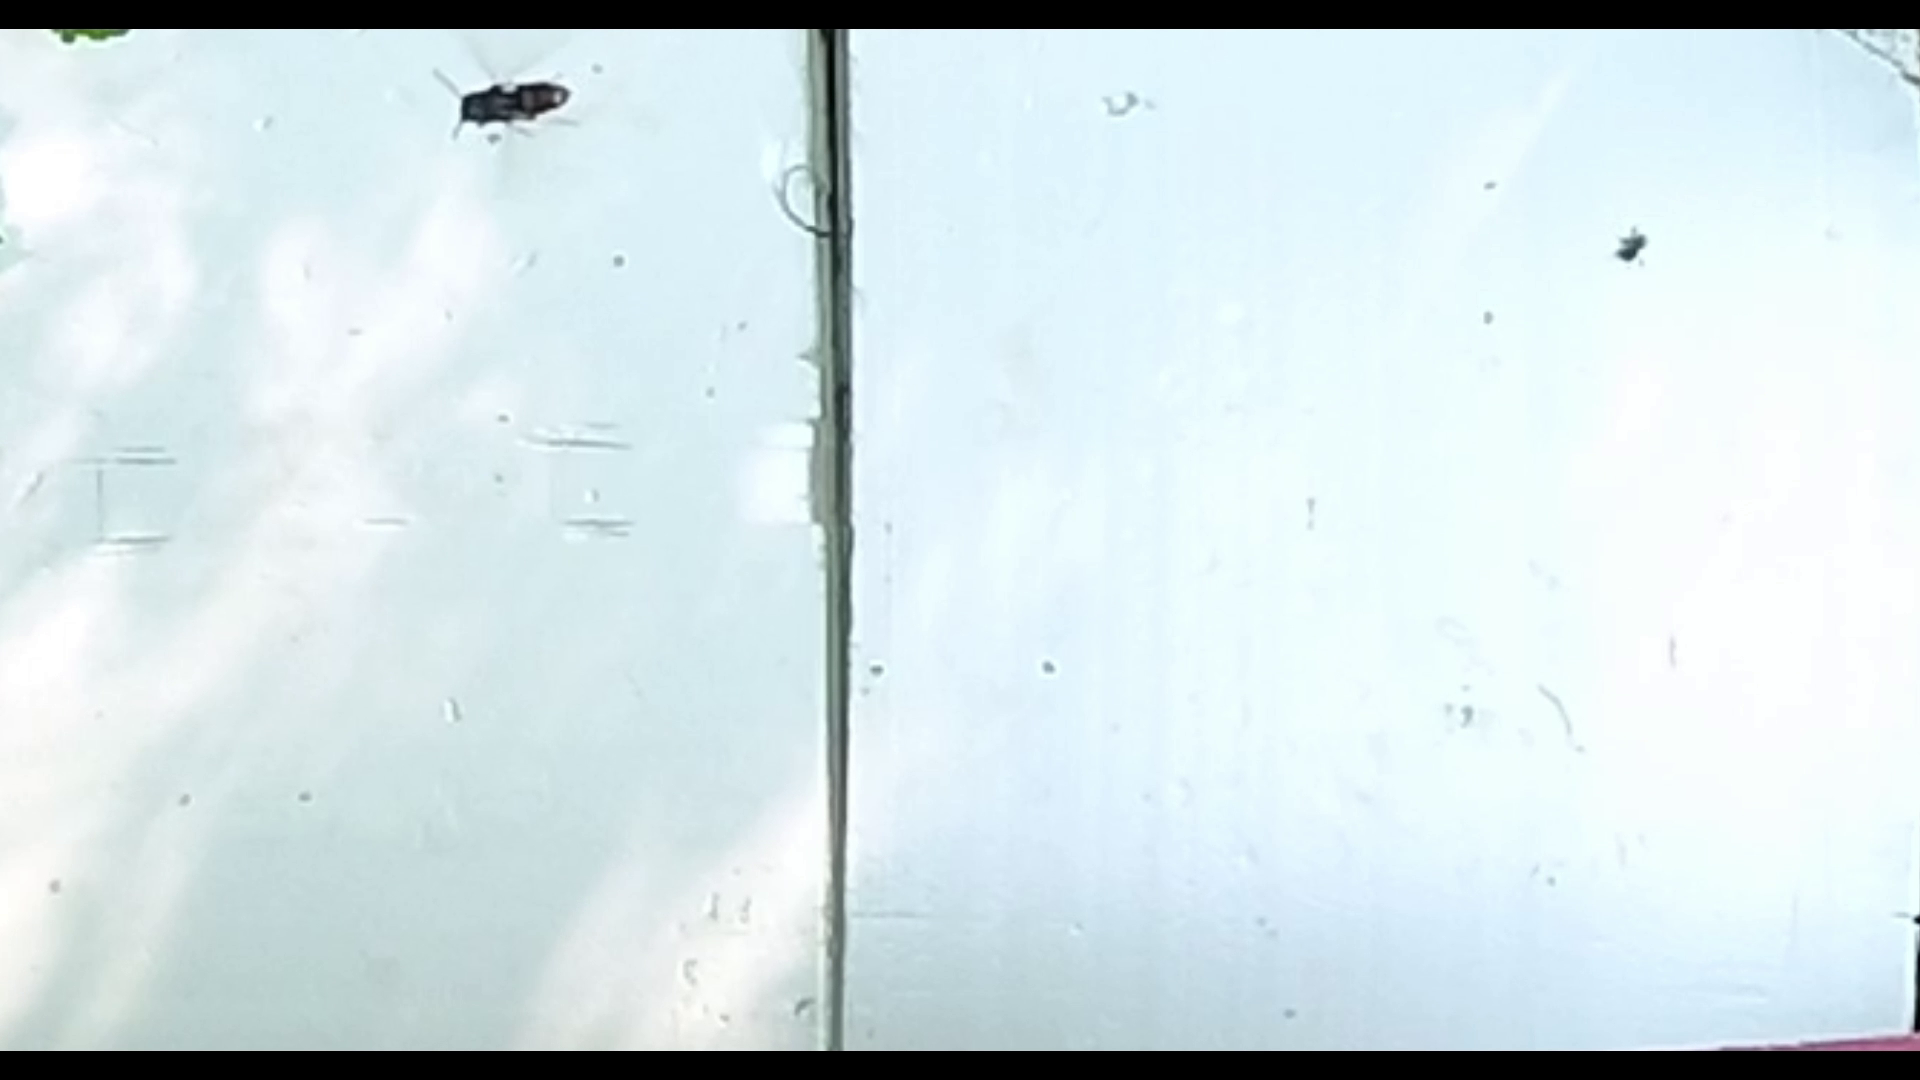Asian_hornets: (426, 38, 593, 167)
